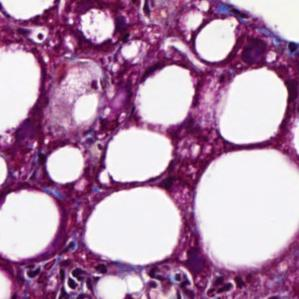inflammation: (22, 257, 89, 299), (170, 265, 237, 299)
